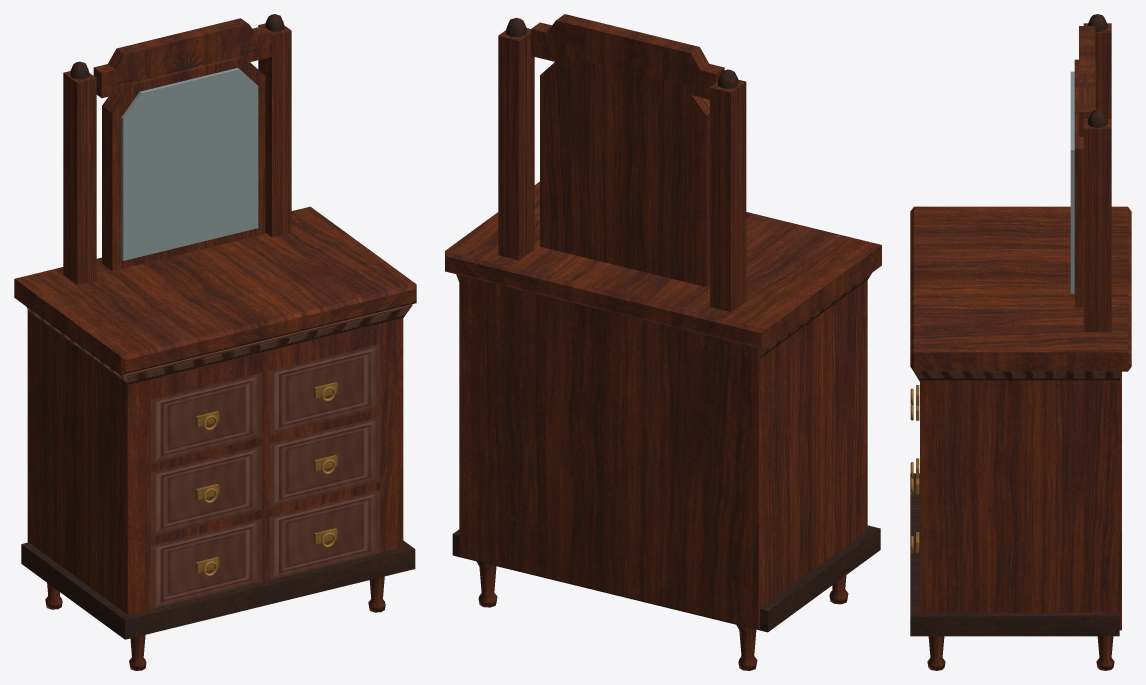
The model's file is city1880-dresser.gltf.
3 renders of one model, left to right at view 1: azimuth 30°, elevation 25°; view 2: azimuth 150°, elevation 25°; view 3: azimuth 270°, elevation 25°, orthographic. The views are drawn at different scales.
Parts seen in each view (by area): view 1: Eastlake mirror dresser; view 2: Eastlake mirror dresser; view 3: Eastlake mirror dresser.
Boxes of the visible parts, x1=… form: Eastlake mirror dresser: x1=14, y1=14, x2=416, y2=670; Eastlake mirror dresser: x1=445, y1=14, x2=881, y2=670; Eastlake mirror dresser: x1=910, y1=14, x2=1131, y2=670.
Bounding box in the file's own units: 0.881 × 1.56 × 0.565.
3 materials, 2 textured.
